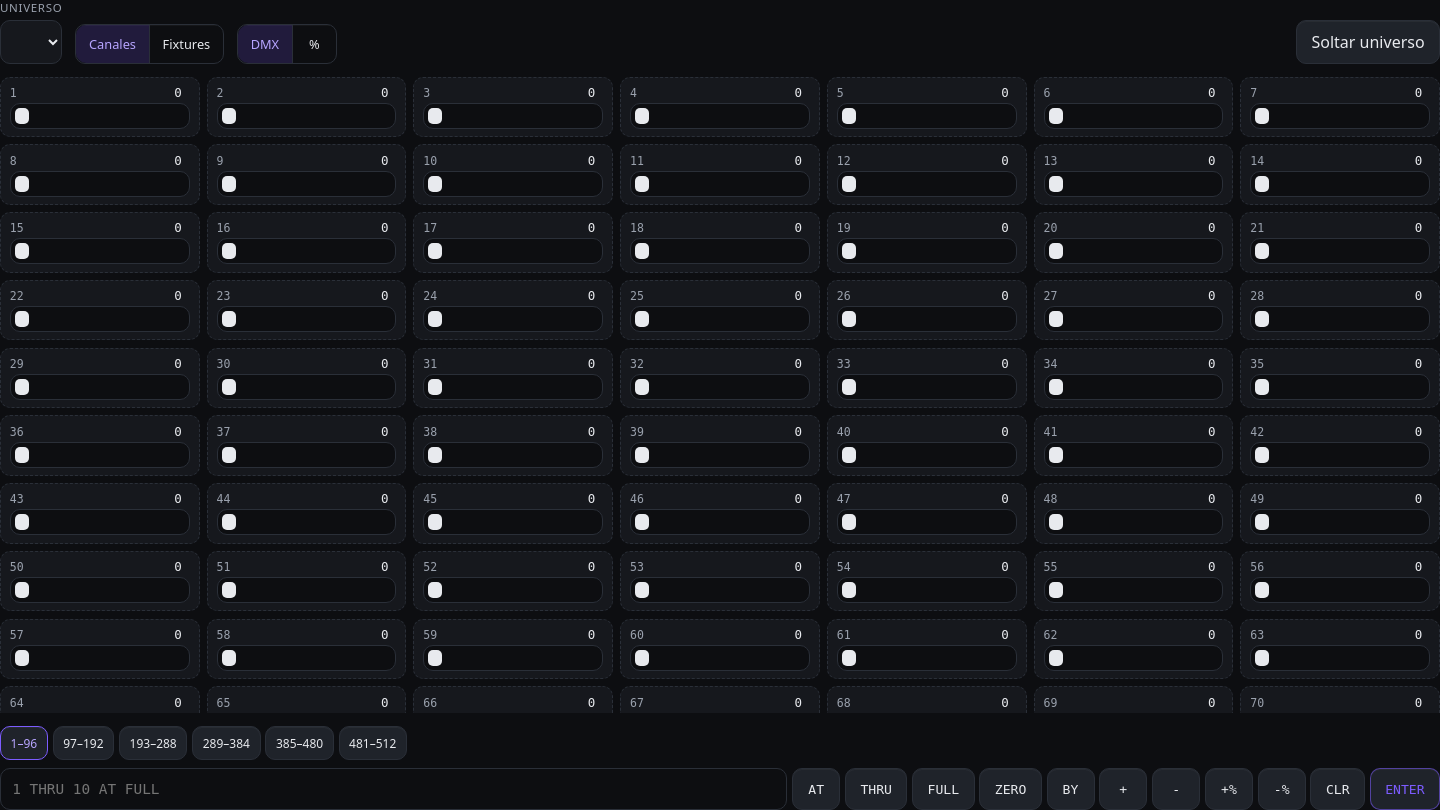
the fixture view › says plainly when the universe has no fixtures
What coordinates should you click on to do the following:
click the button "Fixtures"
I would click on:
 (186, 44)
Its box is [149,25,223,63].
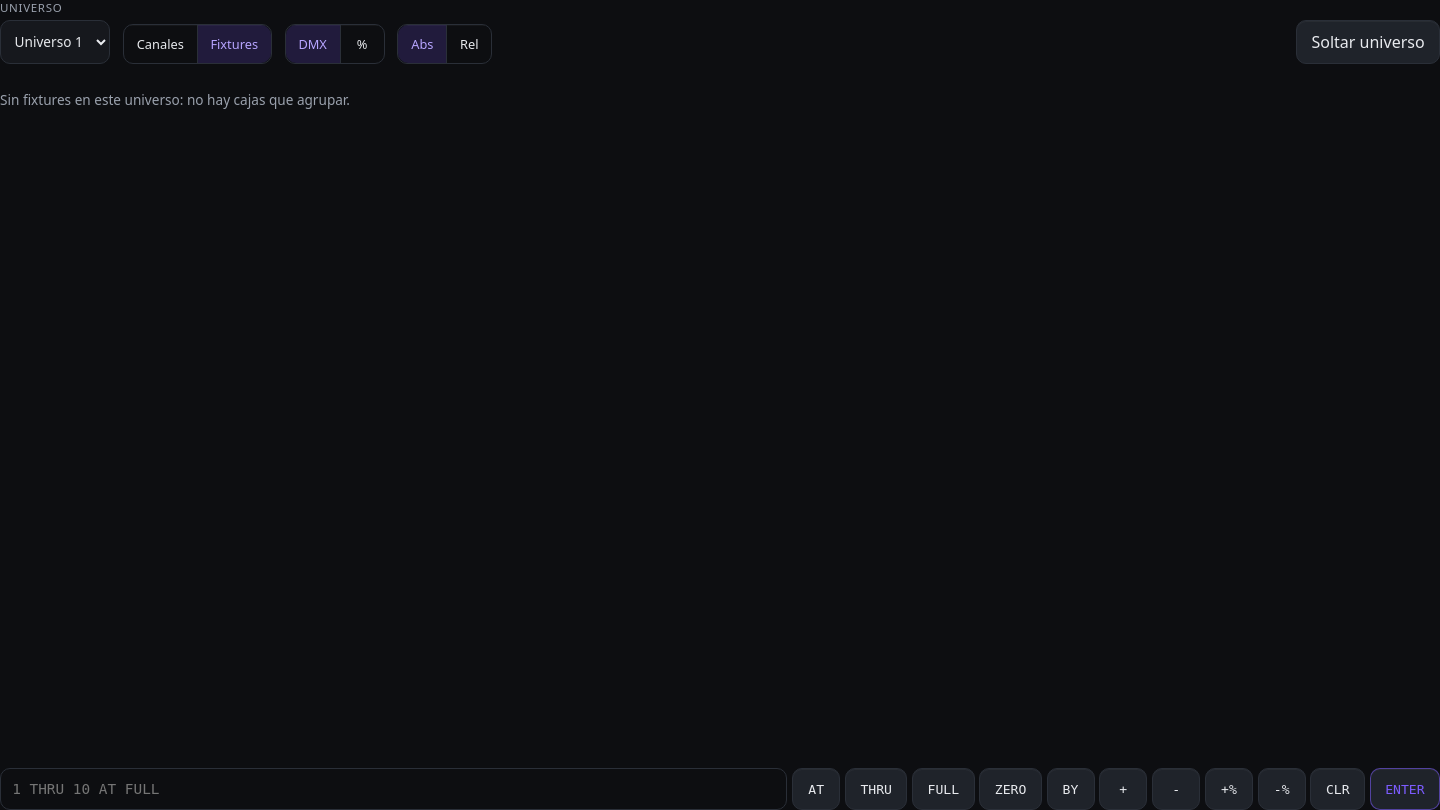
Expected: the text "Sin fixtures en este universo: no hay cajas que agrupar." is shown, [0,90,350,109]
